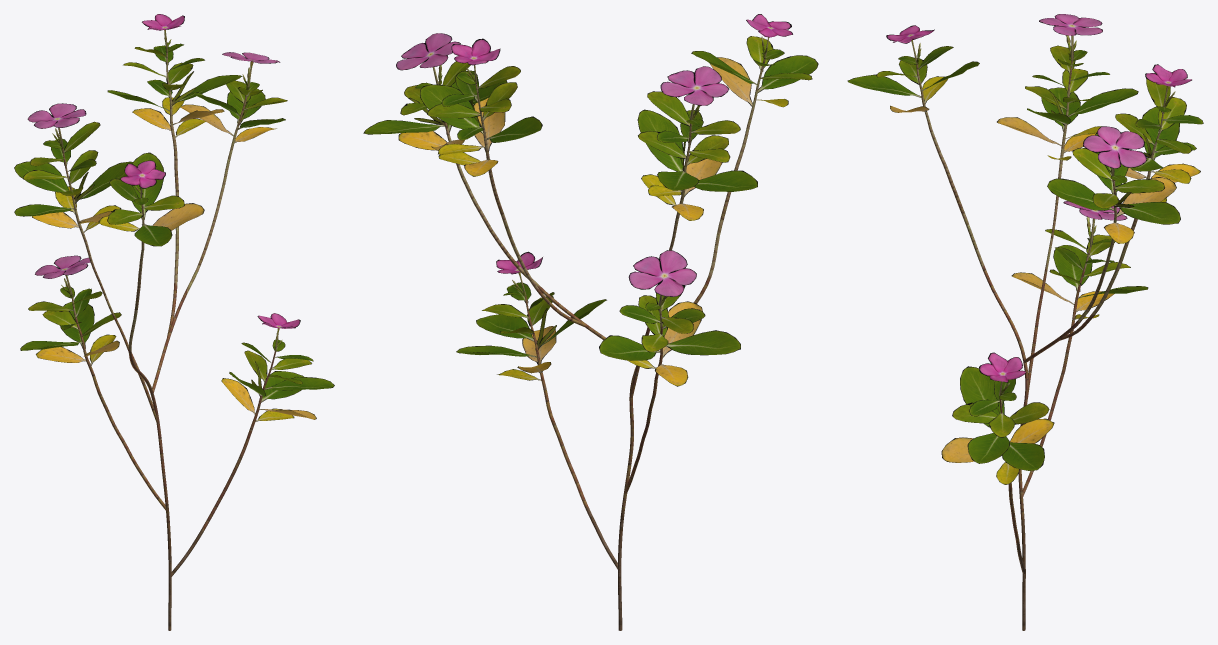
The model's file is periwinkle_plant_05.glb.
The picture shows the model from 3 angles, left to right: view 1: azimuth 30°, elevation 25°; view 2: azimuth 150°, elevation 25°; view 3: azimuth 270°, elevation 25°; orthographic projection. The views are drawn at different scales.
Visible parts, largest first — view 1: periwinkle_plant; view 2: periwinkle_plant; view 3: periwinkle_plant.
Part boxes in pixels (box(x1,y1,x2,y2)): periwinkle_plant: box(14, 14, 334, 630); periwinkle_plant: box(363, 14, 818, 630); periwinkle_plant: box(847, 14, 1203, 630).
Bounding box in the file's own units: 0.2311 × 0.4107 × 0.2248.
1 material, 1 textured.
